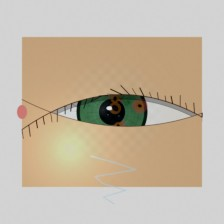foreign_body_visible: (109, 119, 127, 133)
